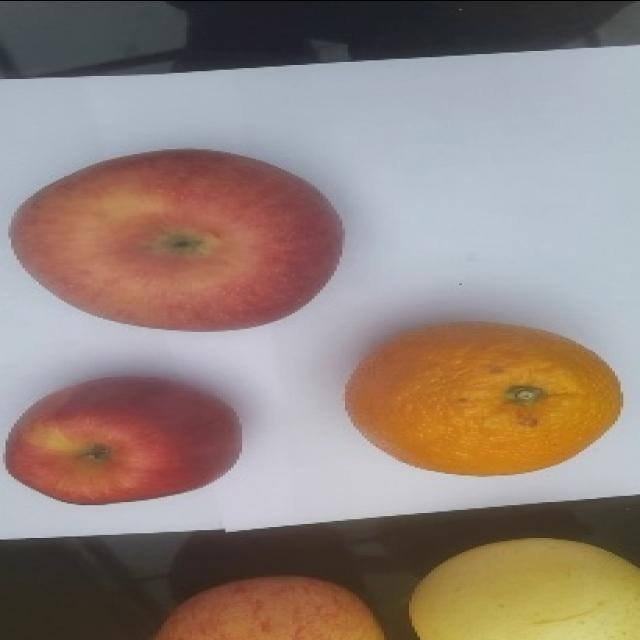Apple: (8, 147, 344, 332), (4, 374, 243, 505), (154, 574, 386, 639)
Orange: (343, 319, 623, 477)
